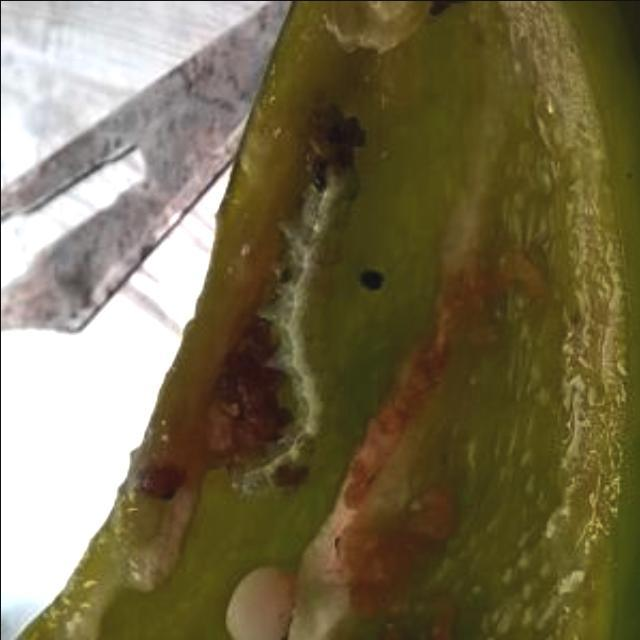Cotton bollworm: (215, 95, 388, 522)
